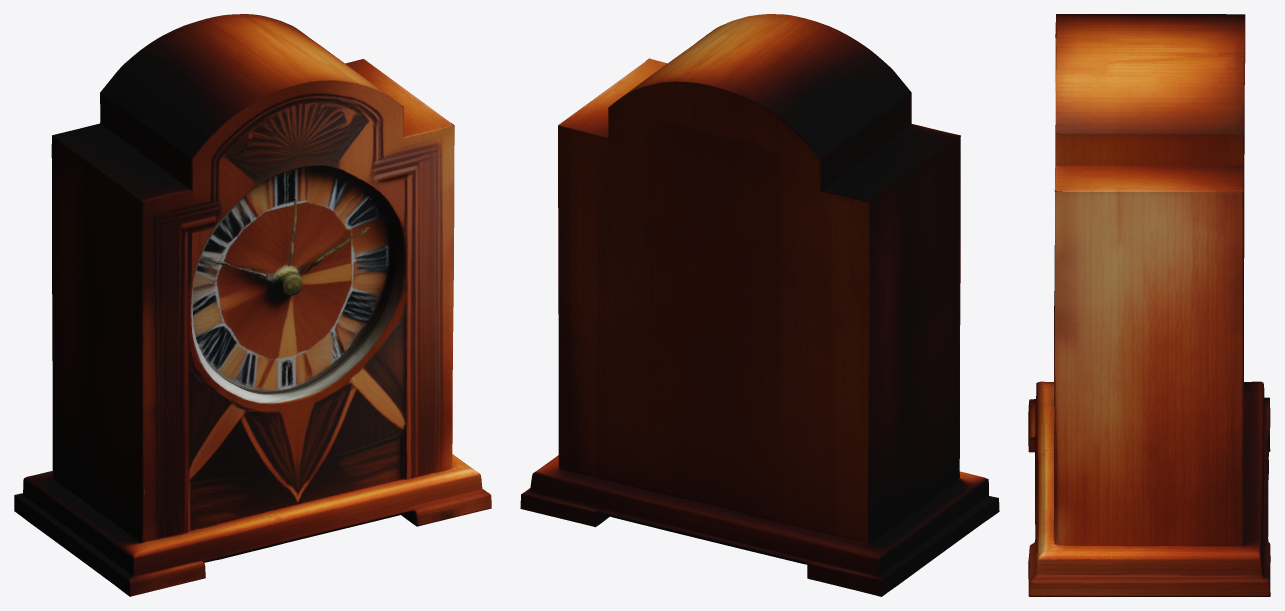
Rendered from wooden-clock-art-deco.jpeg.glb.
3 renders of one model, left to right at view 1: azimuth 30°, elevation 25°; view 2: azimuth 150°, elevation 25°; view 3: azimuth 270°, elevation 25°, orthographic. The views are drawn at different scales.
Parts seen in each view (by area): view 1: world; view 2: world; view 3: world.
Boxes of the visible parts, x1,y1,x2,y2 form: world: [14, 14, 491, 596]; world: [520, 14, 999, 596]; world: [1028, 14, 1270, 596].
Bounding box in the file's own units: 0.8256 × 1 × 0.4621.
Materials: 1 (1 with a texture image).
